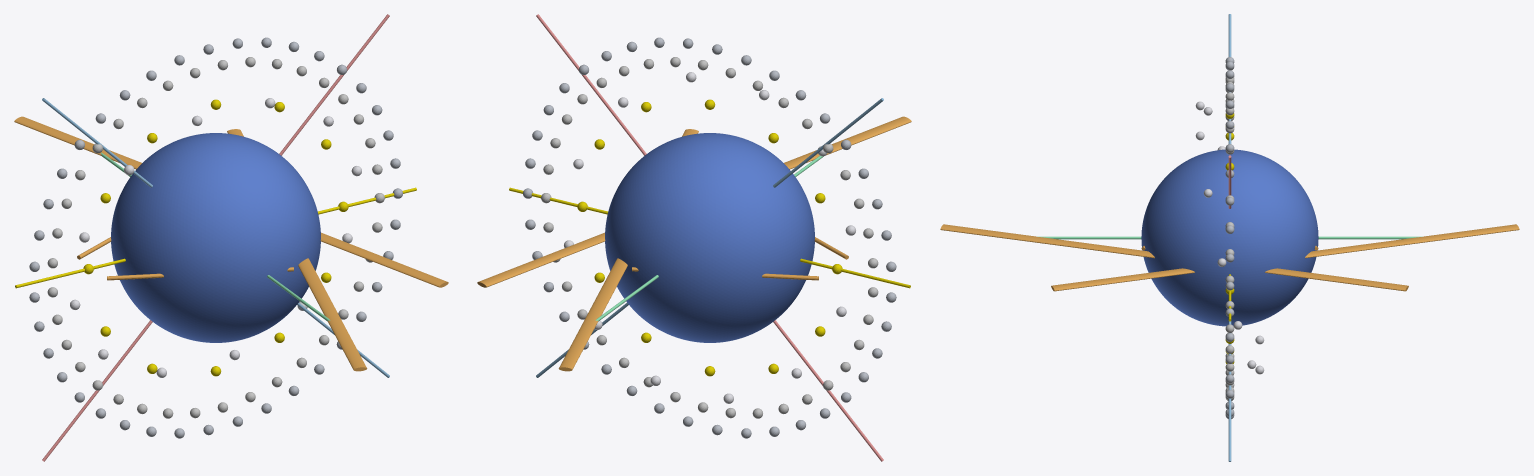
Rendered from machina-blue-pearl.glb.
3 renders of one model, left to right at view 1: azimuth 30°, elevation 25°; view 2: azimuth 150°, elevation 25°; view 3: azimuth 270°, elevation 25°, orthographic. The views are drawn at different scales.
Visible parts, largest first — view 1: BluePearl, Kite_RB, Kite_TR, Axis_Slash, Axis_Backslash, Axis_Horizontal; view 2: BluePearl, Kite_TR, Kite_RB, Axis_Slash, Axis_Backslash, Axis_Horizontal; view 3: BluePearl, Kite_TR, Kite_RB, Axis_Vertical.
Part boxes in pixels (x1,y1,x2,y2): BluePearl: (111, 133, 320, 342); Kite_RB: (14, 116, 448, 287); Kite_TR: (227, 129, 367, 371); Axis_Slash: (42, 14, 389, 461); Axis_Backslash: (42, 98, 389, 377); Axis_Horizontal: (15, 187, 416, 288); BluePearl: (605, 133, 814, 342); Kite_TR: (477, 116, 911, 287); Kite_RB: (558, 129, 698, 371); Axis_Slash: (536, 14, 883, 461); Axis_Backslash: (536, 98, 883, 377); Axis_Horizontal: (509, 187, 910, 288); BluePearl: (1141, 149, 1318, 326); Kite_TR: (940, 224, 1408, 291); Kite_RB: (1051, 224, 1519, 291); Axis_Vertical: (1037, 236, 1422, 239).
Bounding box in the file's own units: 4.4 × 4.1 × 6.54.
